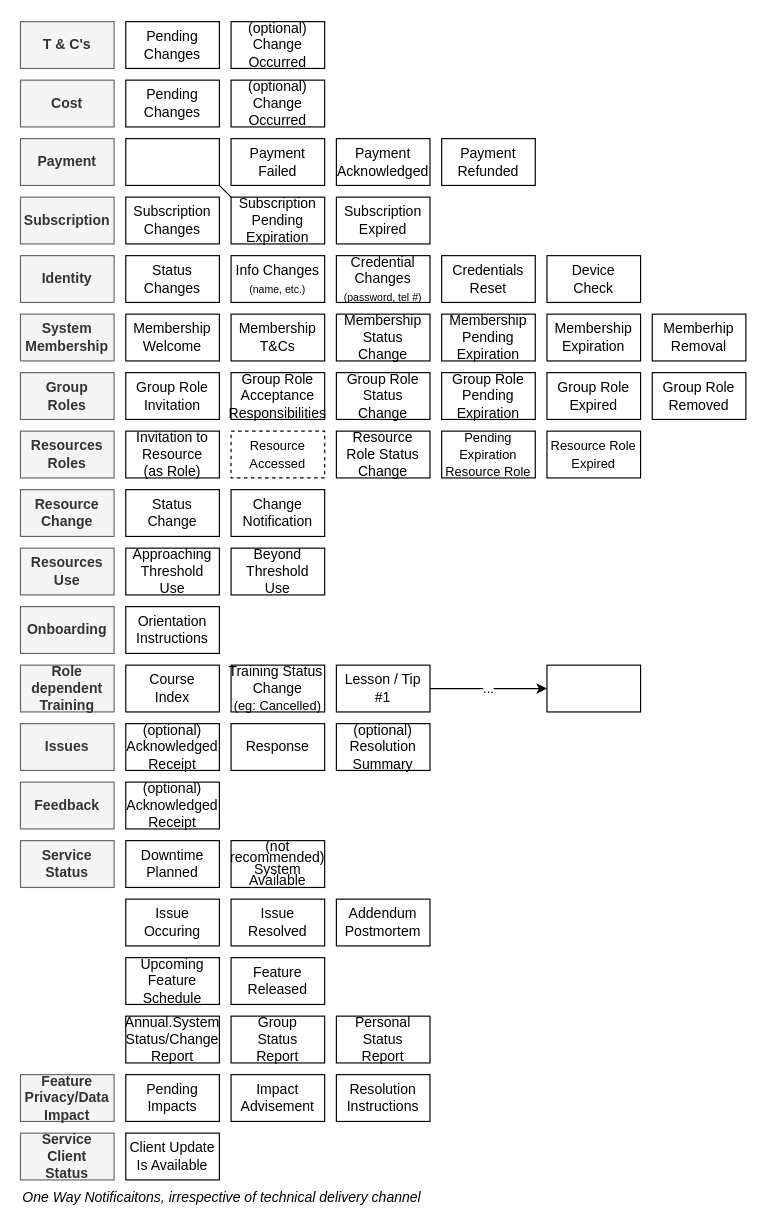
The diagram is 766 pixels wide and 1226 high, and some of its shapes have lost their labels. The centre of each missing label's shape, as x and y in pixels:
"Lesson / Tip #n" belongs at [593,688].
"Payment Due" belongs at [172,161].
